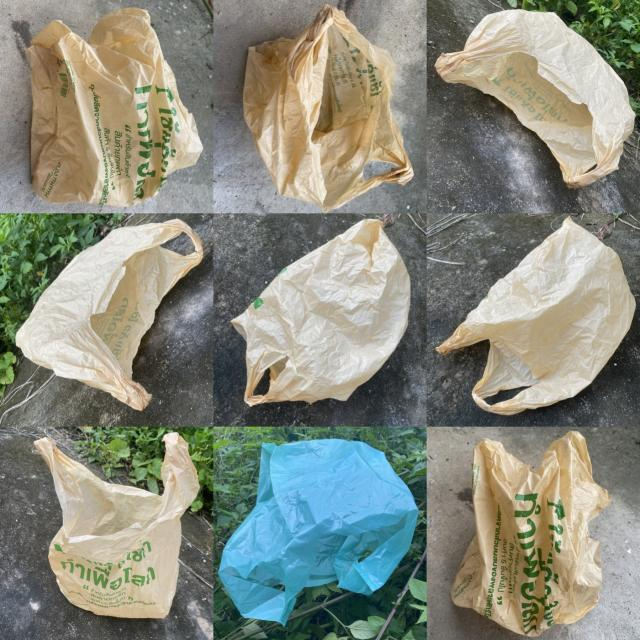Single-layer Plastic: (436, 219, 635, 415), (219, 439, 419, 624), (16, 219, 204, 409), (435, 10, 635, 188), (244, 5, 414, 212), (26, 8, 202, 206), (231, 219, 410, 406), (451, 431, 610, 636), (36, 432, 199, 619)
